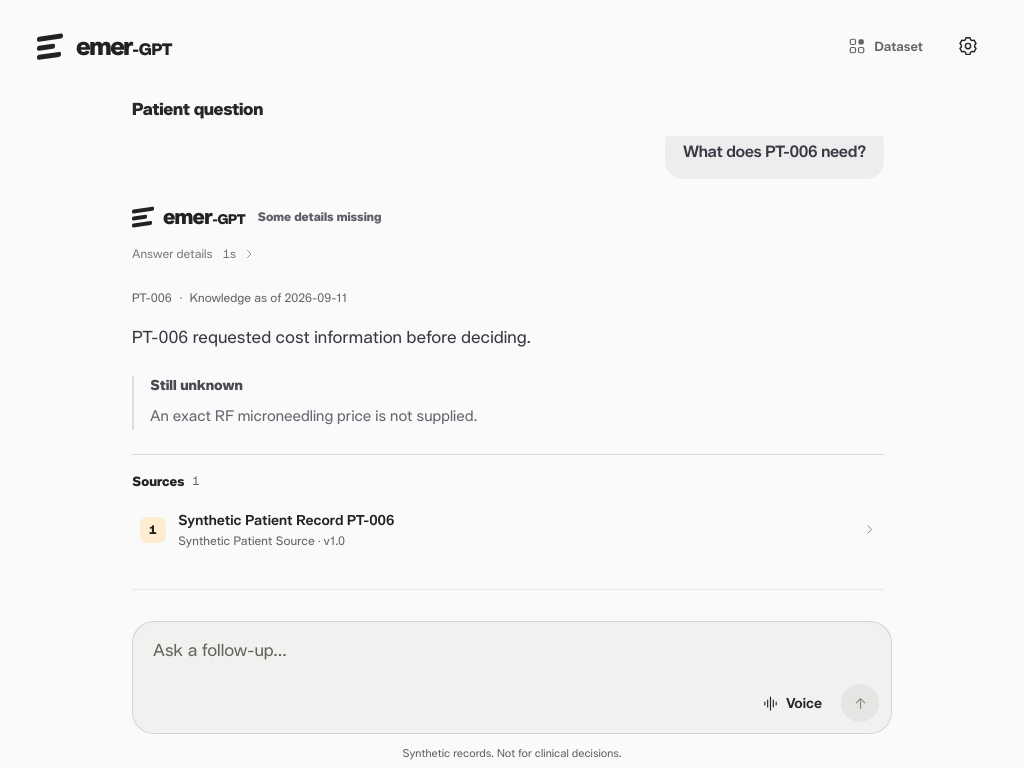
Test: Simplified workspace with HTTP and Live-hook doubles › ends centered voice from the composer toggle and restores the thread without losing text
(page scrolled)
Check: the button "Voice" is enabled, box [749,683,835,723]
Check: the text "PT-006 requested cost information before deciding." is shown, box [132,325,531,348]
Type "Keep this thought" into the text box named "Your question" at (512, 652), box [145,636,879,668]
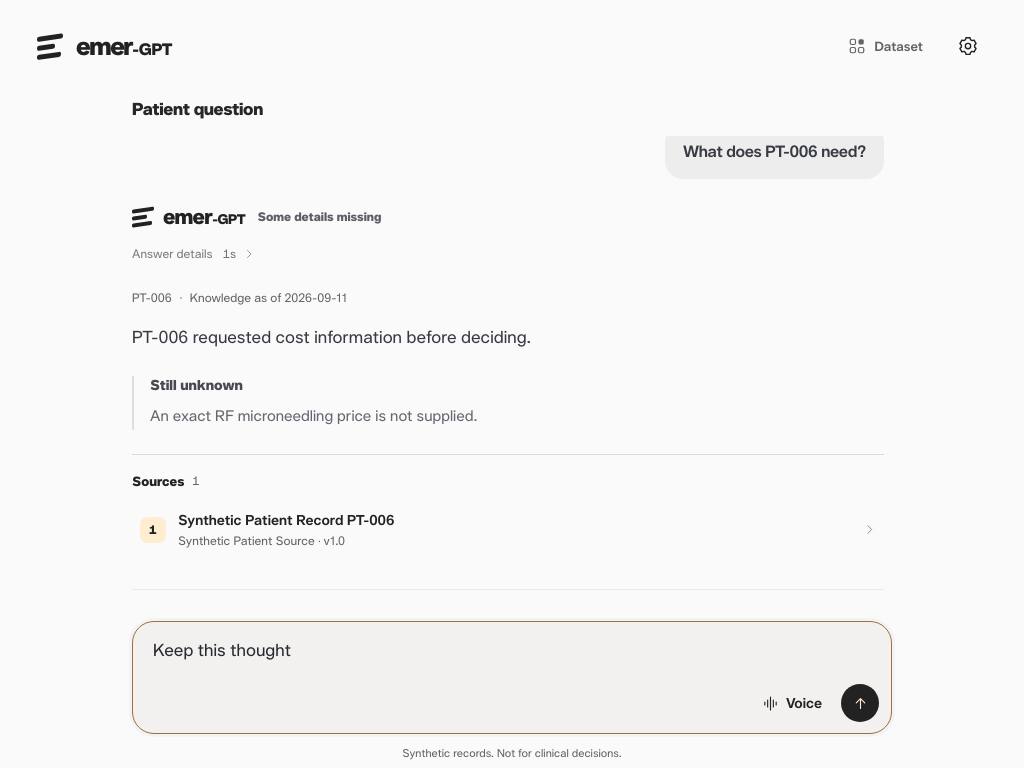
Click the button "Voice" at (792, 703), box [749,683,835,723]
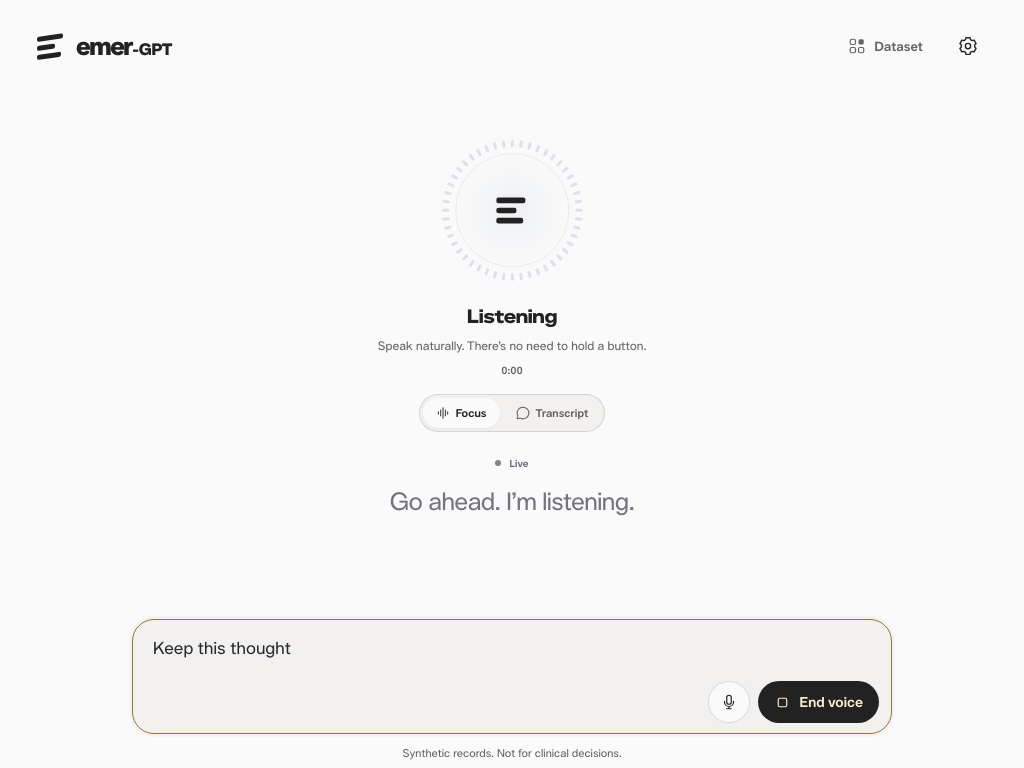
Check: the form "End voice" is shown, box [132,619,892,734]
Press Enter
Check: the element with class "is-live" is shown, box [377,122,647,517]
Click the button "End voice" at (819, 702), box [758,681,879,723]
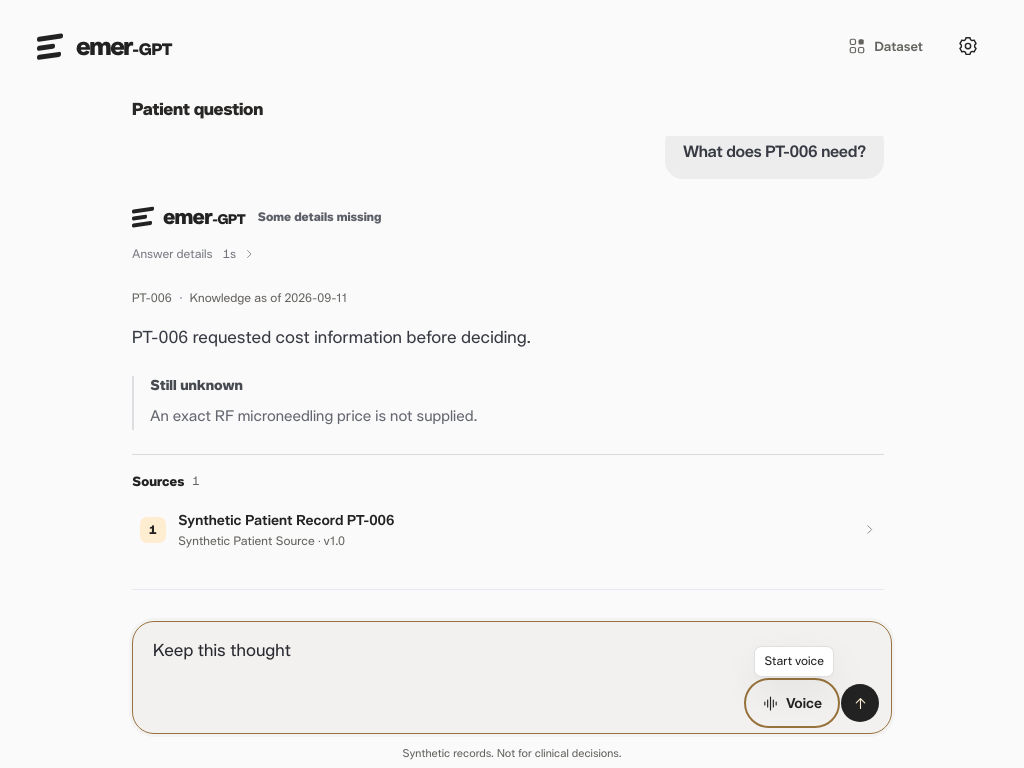
Check: the text "PT-006 requested cost information before deciding." is shown, box [132,325,531,348]
